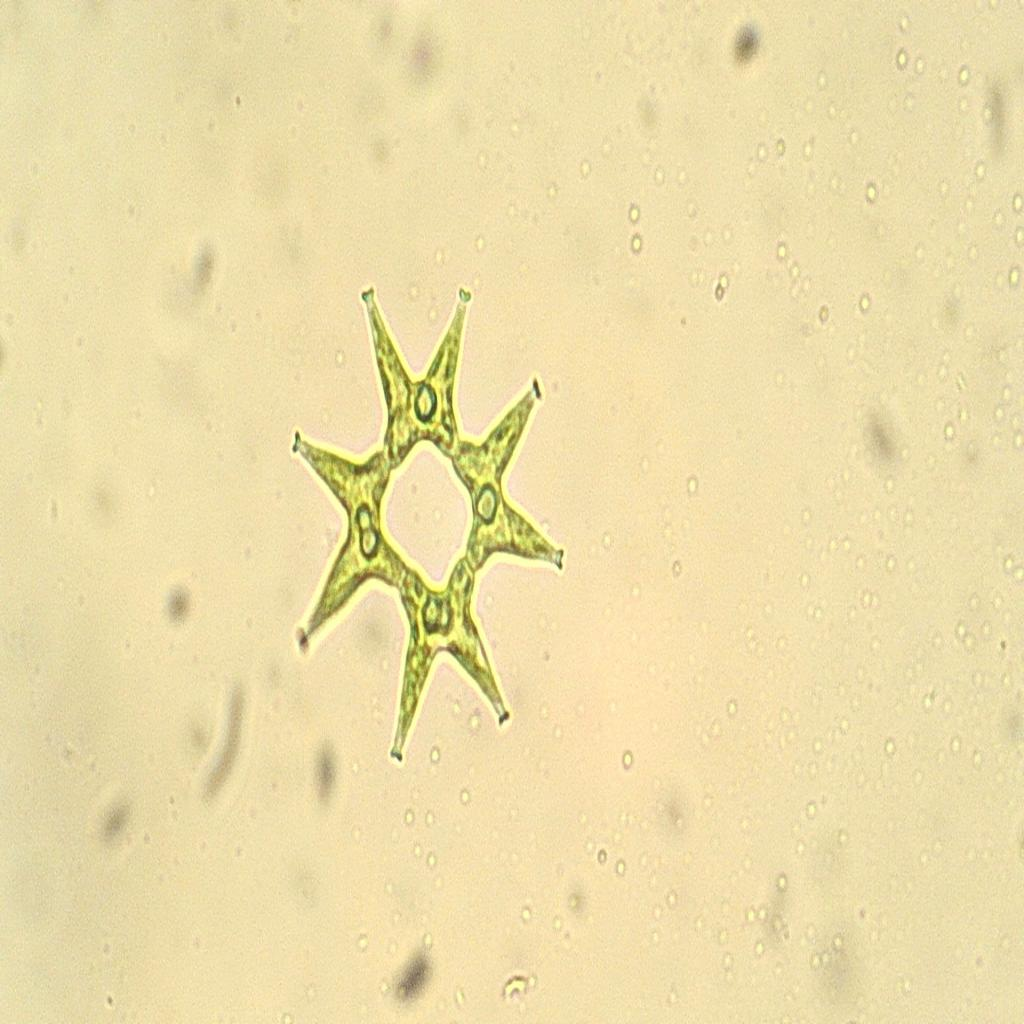Pediastrum_10: (275, 268, 590, 786)
